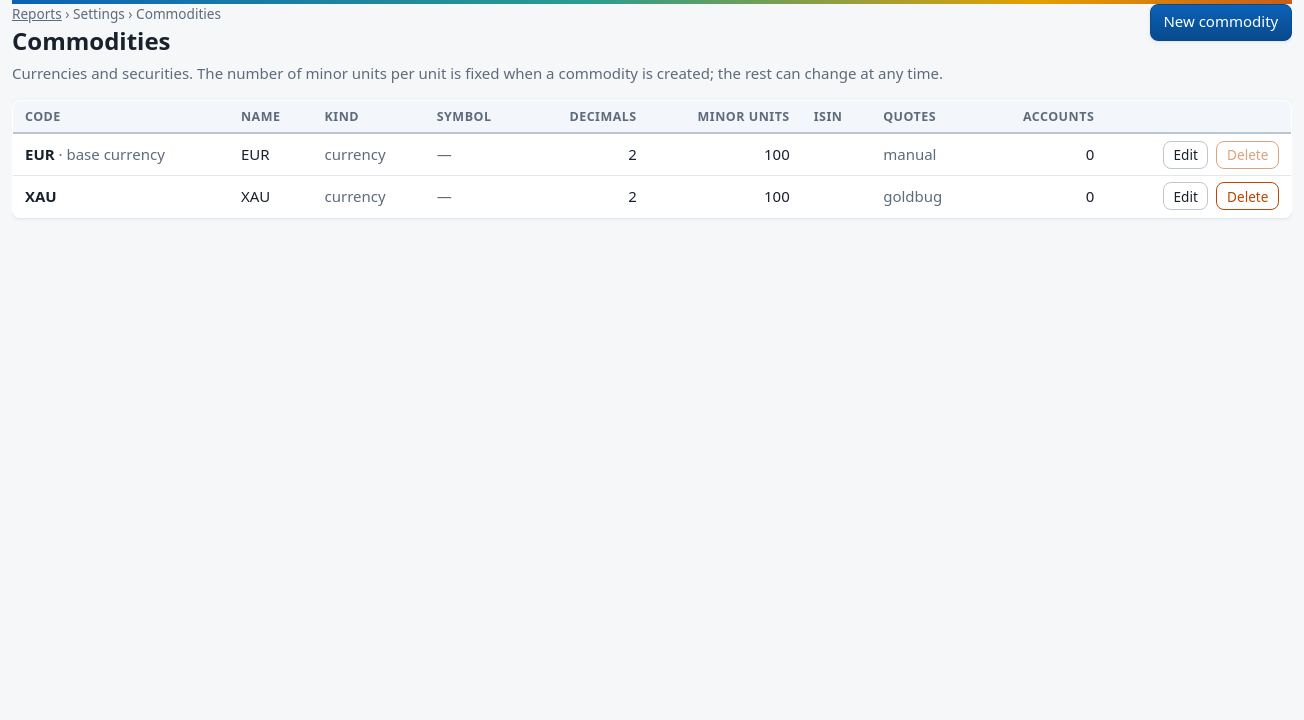
it: the commodity editor's quote source › keeps a source whose provider is no longer installed, so it can be cleared
Click the button with aria-label "Edit XAU". click: click(1186, 196)
box: [1163, 182, 1208, 210]
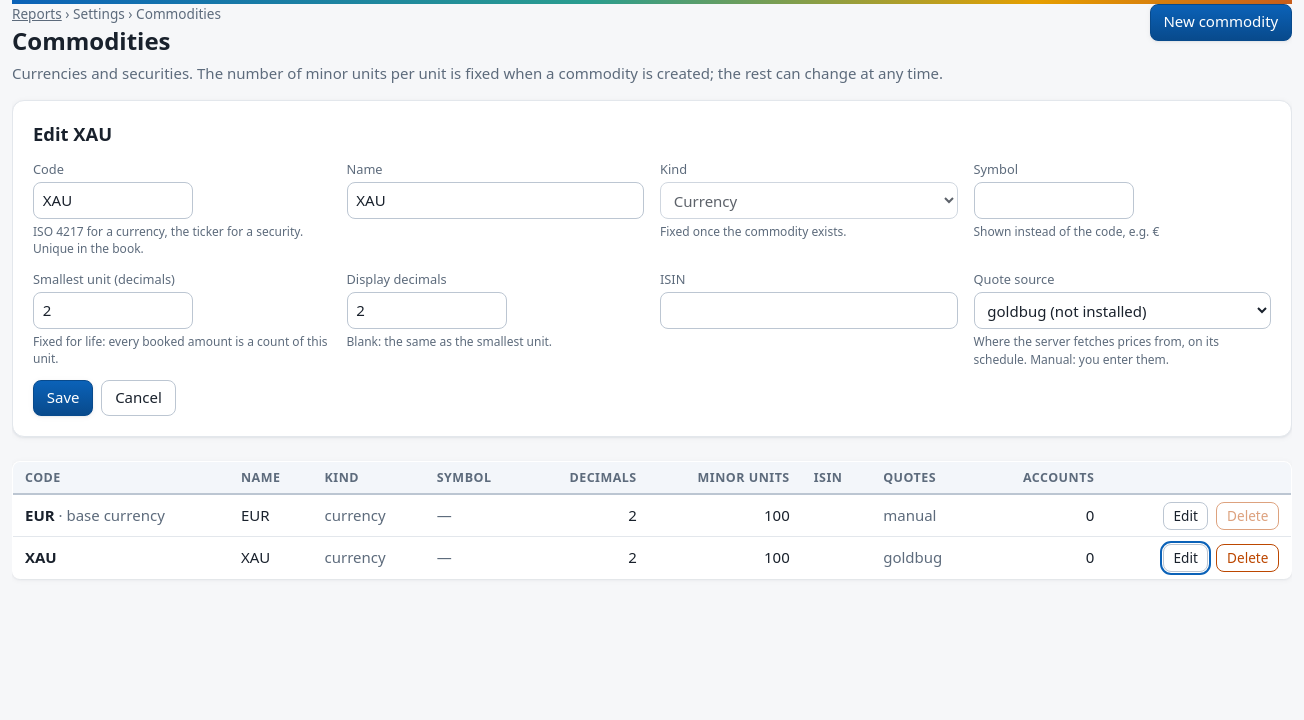
Check: the dropdown labelled "Quote source" shows "goldbug (not installed)", box [974, 292, 1271, 329]
